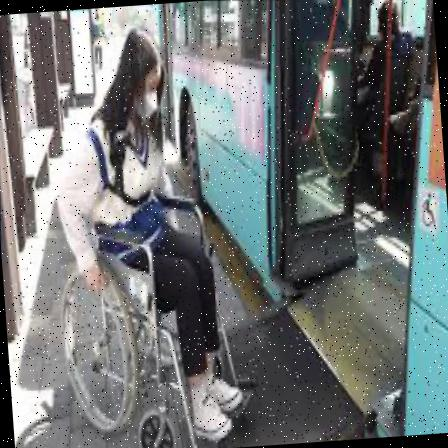wheel: (29, 14, 282, 447)
